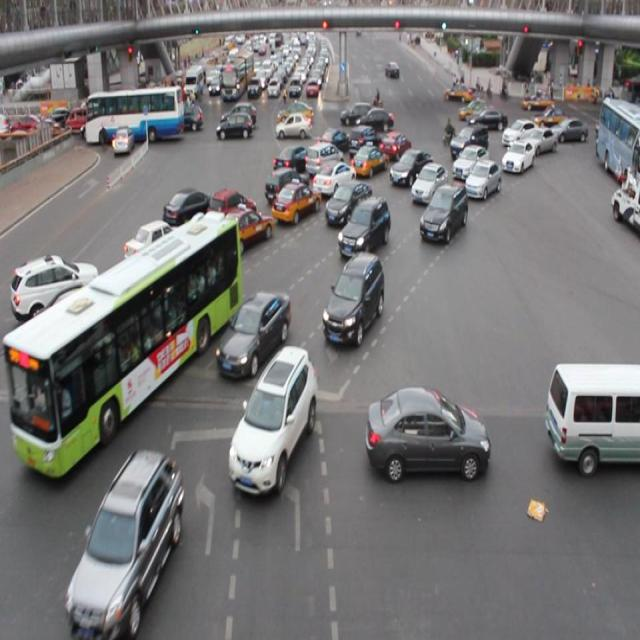car: (66, 451, 183, 630), (228, 345, 314, 495), (364, 384, 488, 478), (31, 284, 125, 357), (216, 290, 291, 377), (321, 250, 384, 346), (12, 254, 99, 323), (133, 247, 218, 309), (124, 219, 193, 268), (208, 202, 273, 254), (418, 182, 466, 246), (337, 197, 389, 256), (203, 188, 257, 234), (270, 180, 322, 226), (323, 180, 372, 223), (162, 187, 213, 228), (264, 166, 309, 207), (388, 147, 433, 186), (311, 160, 356, 198), (410, 162, 447, 208), (349, 140, 388, 178), (451, 143, 489, 181), (464, 160, 499, 198), (449, 125, 488, 158), (512, 127, 554, 155), (499, 139, 533, 173), (348, 124, 383, 157), (273, 146, 313, 174), (377, 130, 411, 162), (500, 117, 540, 144), (316, 128, 351, 153)
truck: (544, 359, 640, 468), (305, 141, 344, 177)
van: (10, 216, 240, 476)
